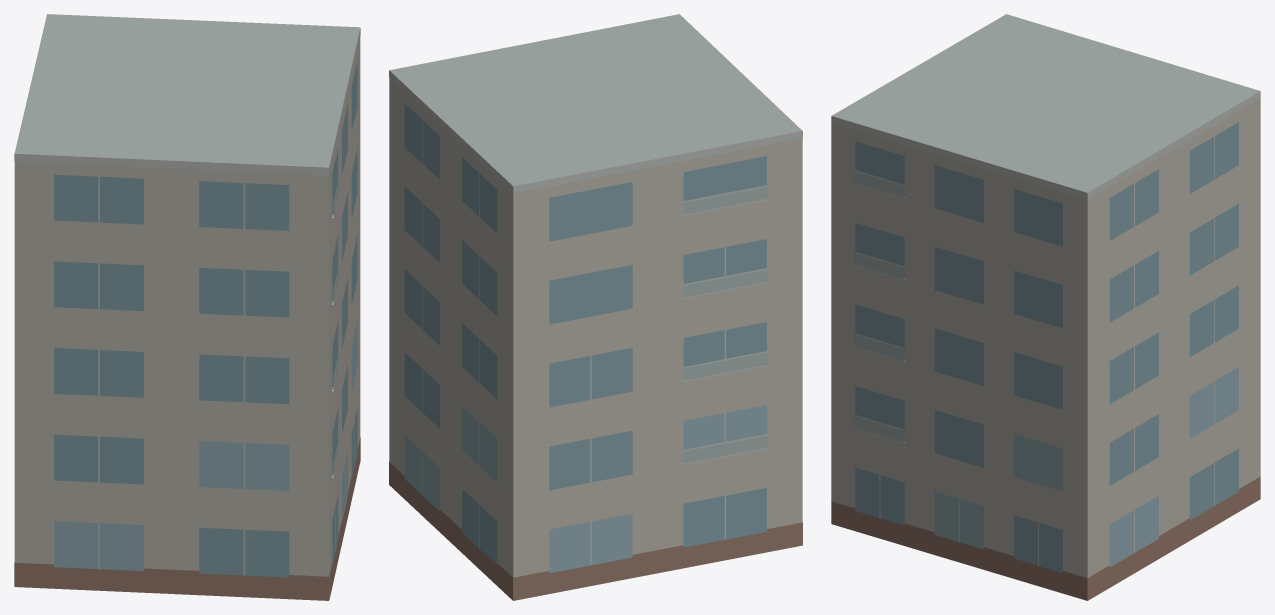
File: survey-upis-32709067.glb
3 renders of one model, left to right at view 1: azimuth 30°, elevation 25°; view 2: azimuth 150°, elevation 25°; view 3: azimuth 270°, elevation 25°, orthographic. The views are drawn at different scales.
Parts seen in each view (by area): view 1: survey-upis-32709067.tmp; view 2: survey-upis-32709067.tmp; view 3: survey-upis-32709067.tmp.
Part boxes in pixels (bbox=[...]): survey-upis-32709067.tmp: bbox=[14, 14, 360, 600]; survey-upis-32709067.tmp: bbox=[389, 14, 802, 600]; survey-upis-32709067.tmp: bbox=[831, 14, 1260, 600].
Size of the model in its own units: 13.07 by 13.9 by 13.26.
